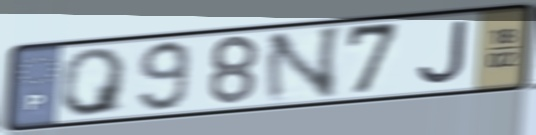7: (343, 20, 403, 100)
8: (207, 33, 261, 108)
9: (135, 38, 194, 115)
J: (414, 18, 470, 88)
N: (261, 23, 347, 108)
Q: (58, 45, 132, 119)
